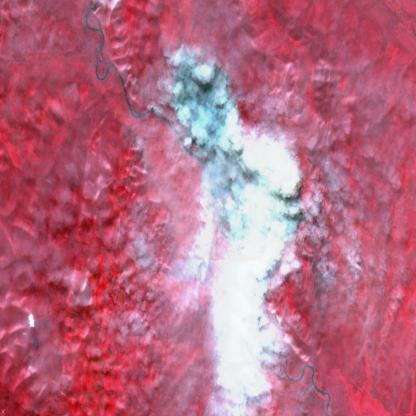fire: (171, 43, 305, 203)
